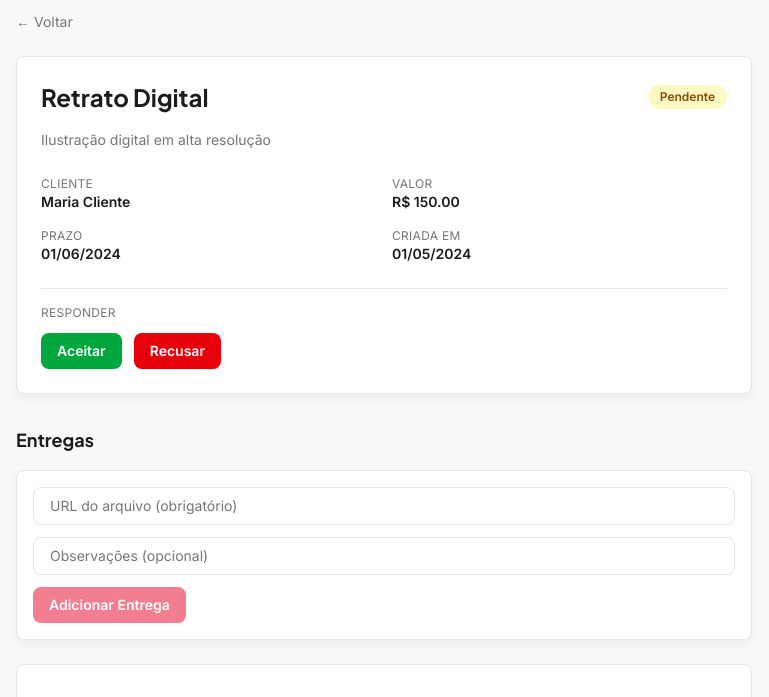
Scenario: ArtistaComissaoDetalhes › shows error when delivery creation fails
Check: the heading "Retrato Digital" is shown, box x1=41 y1=81 x2=208 y2=113
Type "https://cdn.example.com/art.png" into the field with placeholder "URL do arquivo (obrigatório)" at (384, 506), box x1=33 y1=487 x2=735 y2=525
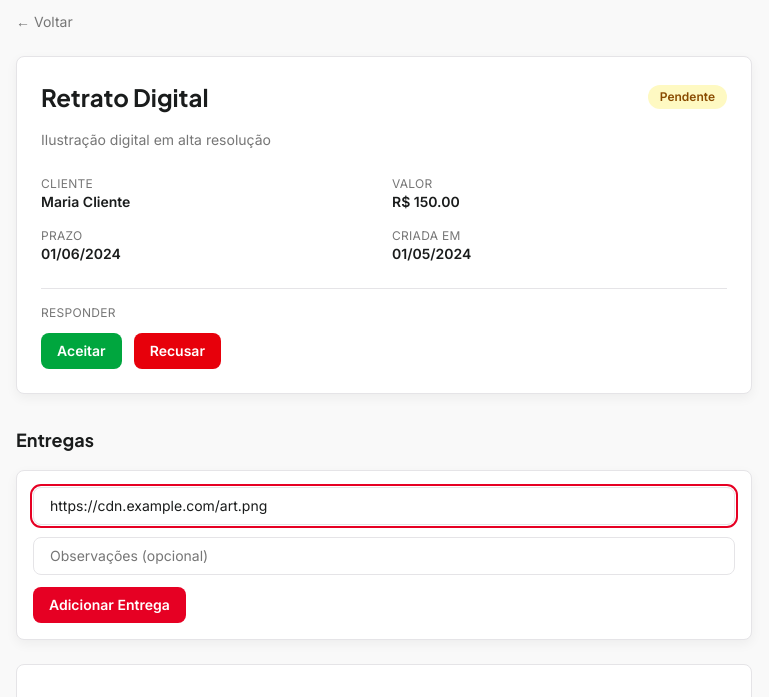
Click the button "Adicionar Entrega" at (109, 605), box x1=33 y1=587 x2=186 y2=623
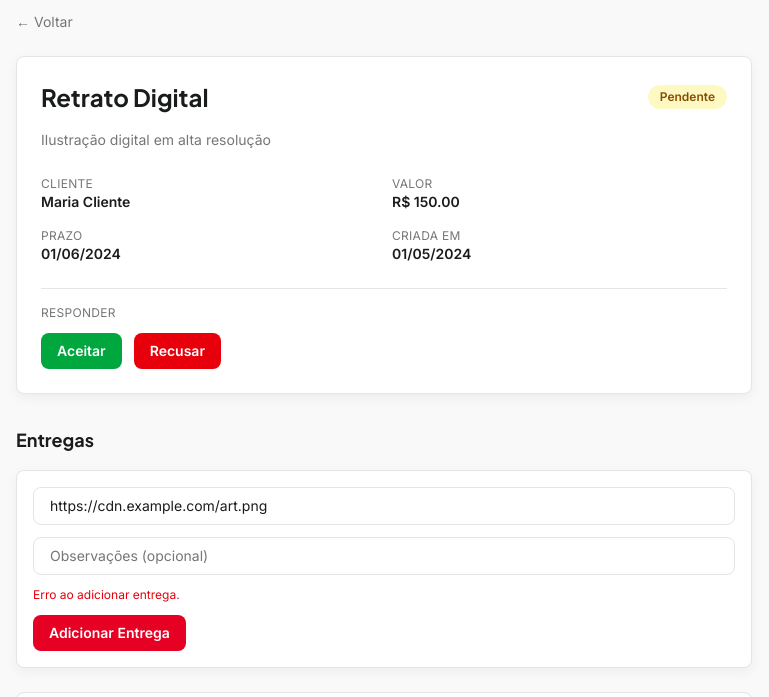
Check: the text "Erro ao adicionar entrega." is shown, box x1=33 y1=587 x2=180 y2=602
